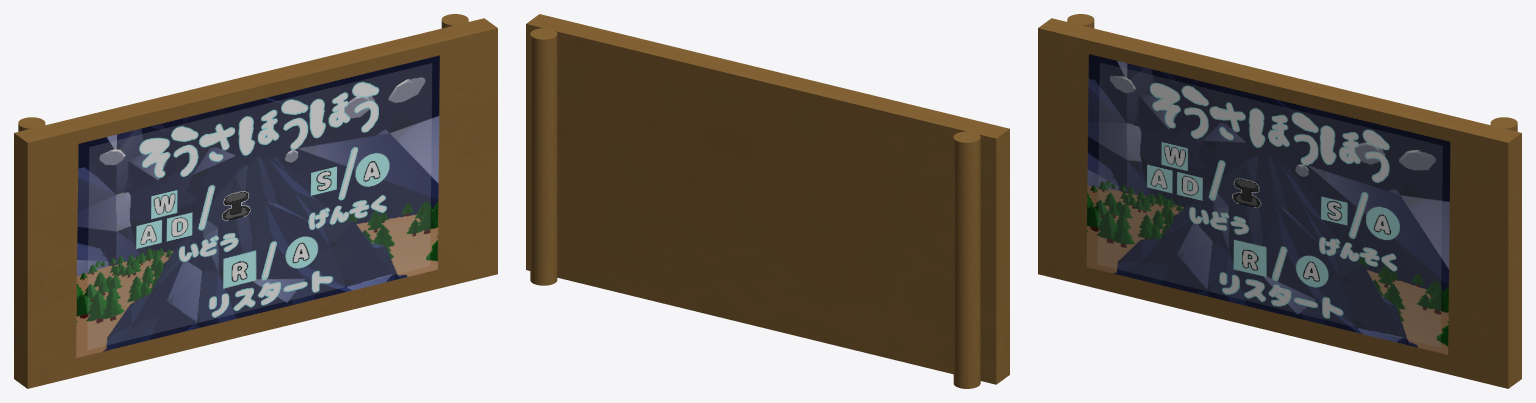
File: SignboardC.obj
3 renders of one model, left to right at view 1: azimuth 30°, elevation 25°; view 2: azimuth 150°, elevation 25°; view 3: azimuth 330°, elevation 25°, orthographic.
Visible parts, largest first — view 1: 立方体; view 2: 立方体; view 3: 立方体.
Part boxes in pixels (left/top/right/bottom): 立方体: left=14, top=14, right=497, bottom=388; 立方体: left=526, top=14, right=1009, bottom=388; 立方体: left=1038, top=14, right=1521, bottom=388.
Size of the model in its own units: 10 by 5 by 0.9616.
